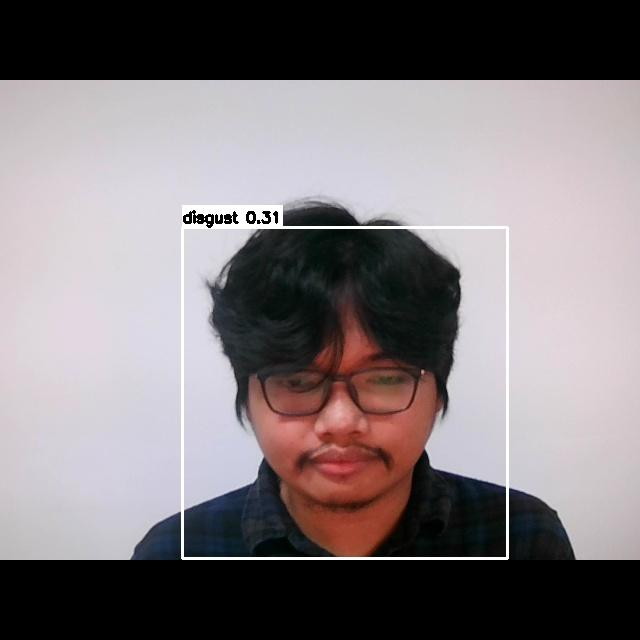Natural: (252, 327, 464, 489)
